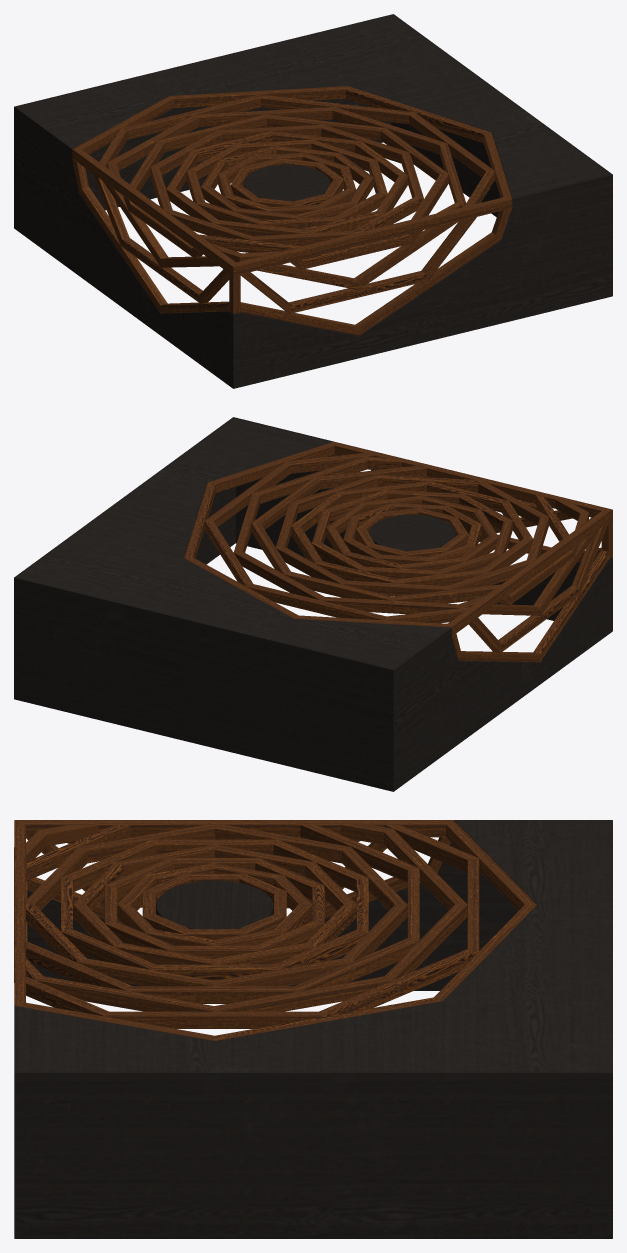
File: modern_coffee_table_02_2k.gltf
3 views of the same model, one above another, from view 1: azimuth 30°, elevation 25°; view 2: azimuth 150°, elevation 25°; view 3: azimuth 270°, elevation 25° (orthographic). The views are drawn at different scales.
Visible parts, largest first — view 1: modern_coffee_table_02; view 2: modern_coffee_table_02; view 3: modern_coffee_table_02.
Boxes of the visible parts, x1,y1,x2,y2 form: modern_coffee_table_02: (14,14,612,388); modern_coffee_table_02: (14,417,612,791); modern_coffee_table_02: (14,820,612,1238).
Bounding box in the file's own units: 1.2 × 0.3692 × 1.2.
Materials: 2 (2 with a texture image).
